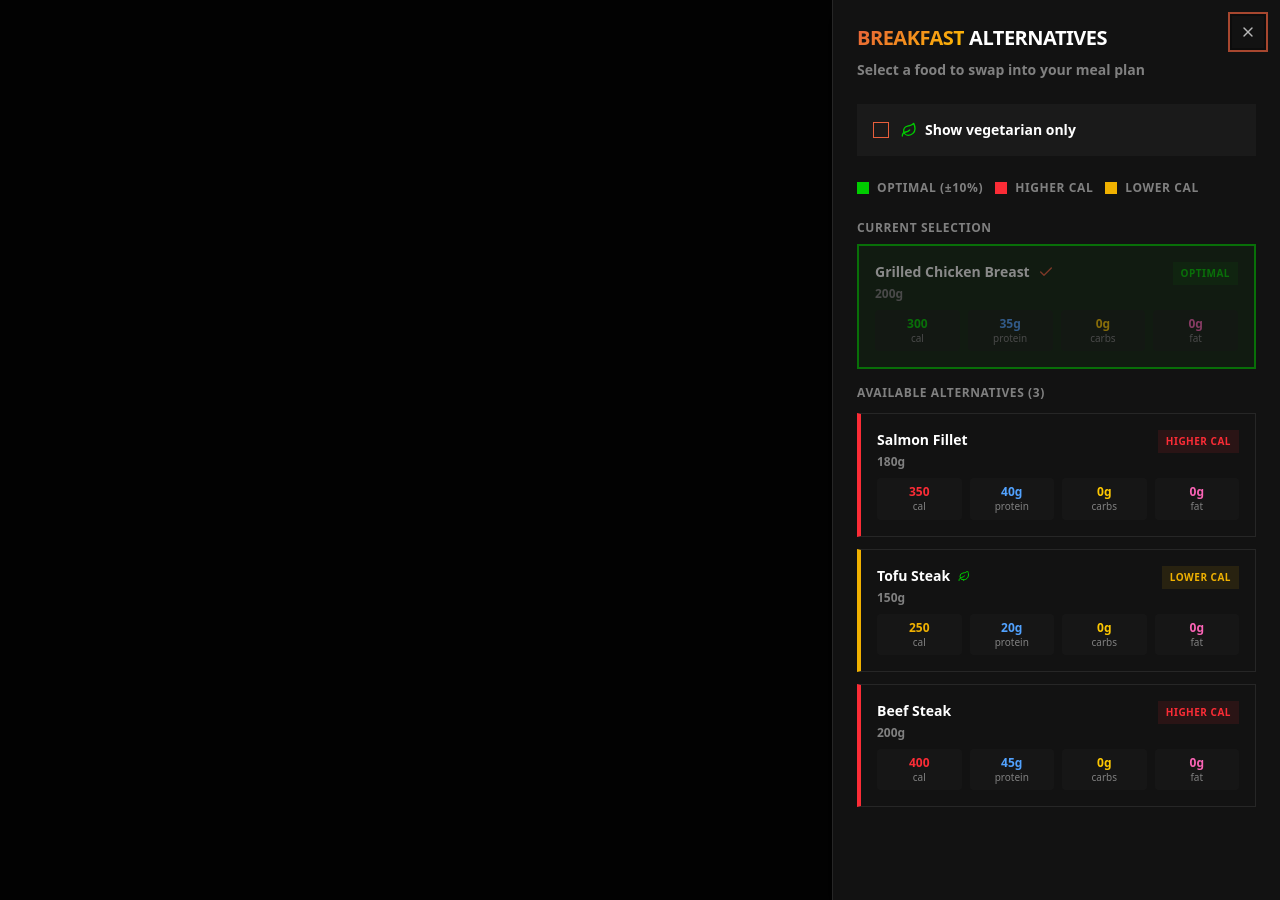
Test: FoodAlternativesDrawer Component › filters to vegetarian only when toggle is clicked
The image size is (1280, 900).
Click the vegetarian filter
Click the checkbox.
click(881, 130)  # box [873,122,889,138]
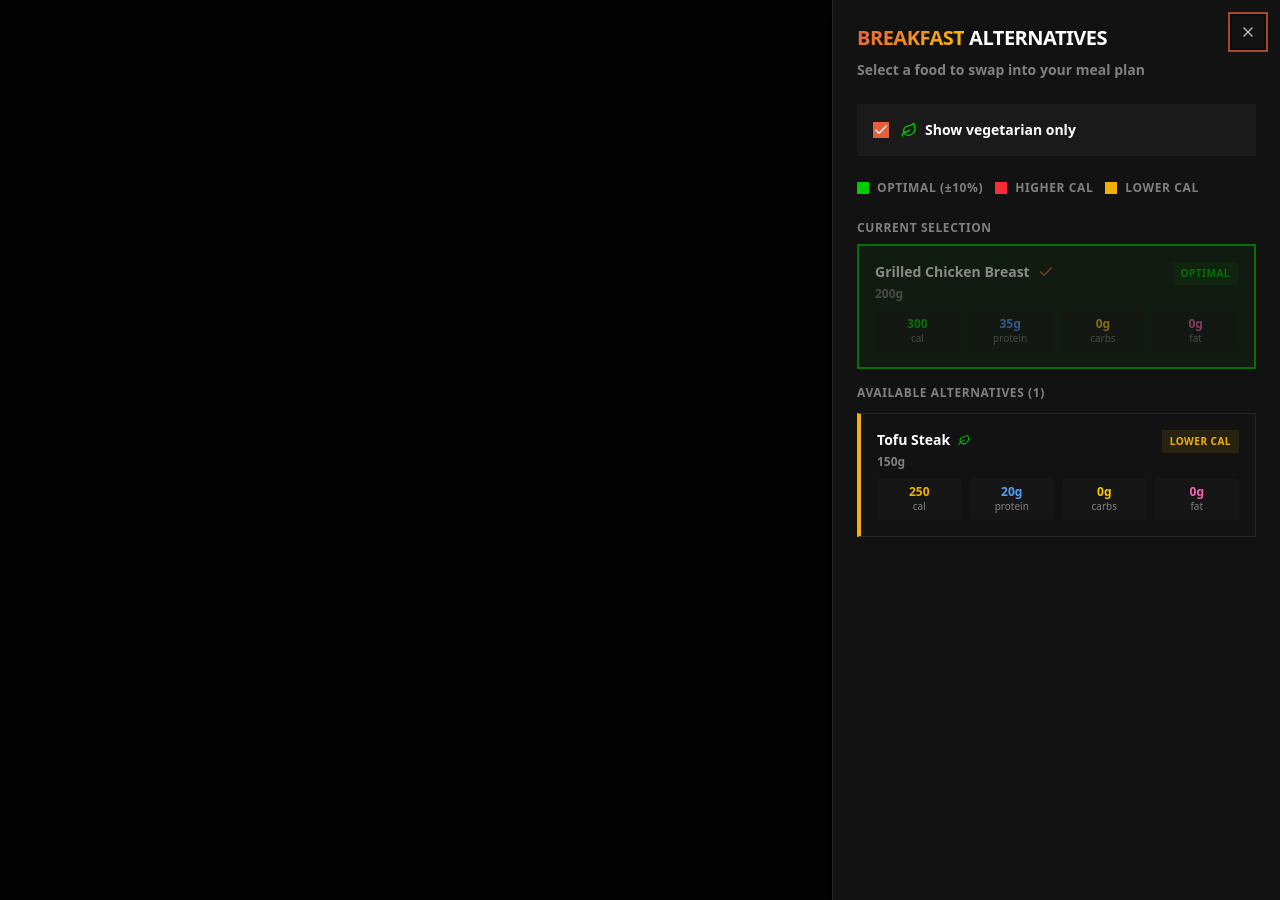
Check: the heading "Tofu Steak" is shown, box [877,430,950,450]
Check: the button "Salmon Fillet" is gone
Check: the button "Beef Steak" is gone
